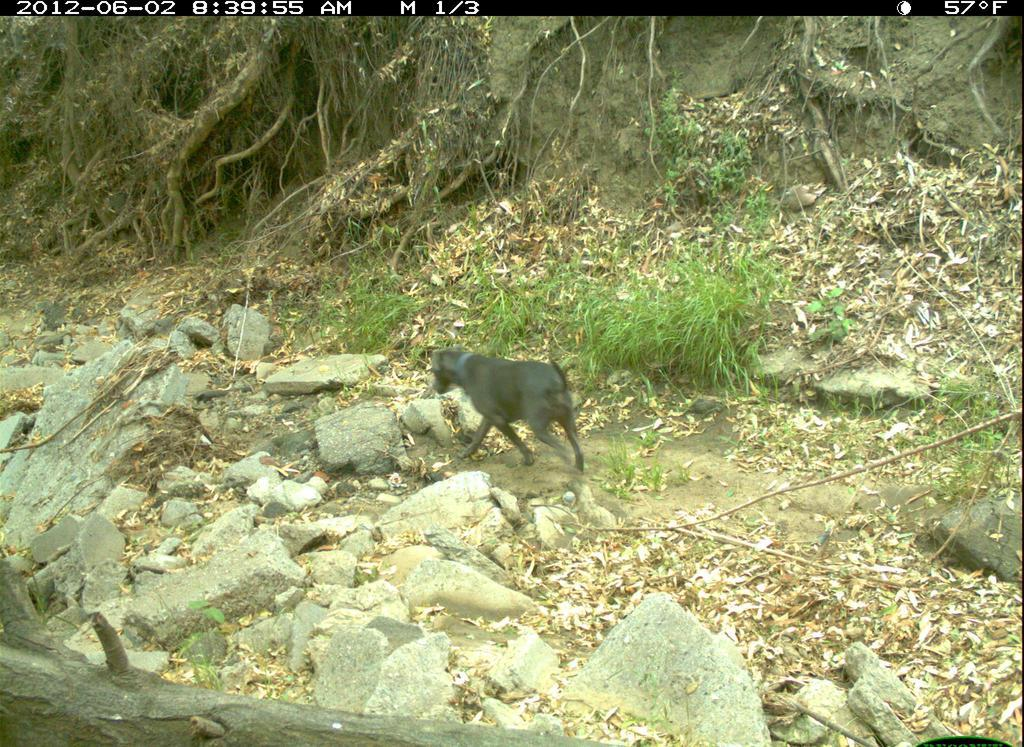dog: (429, 346, 586, 473)
